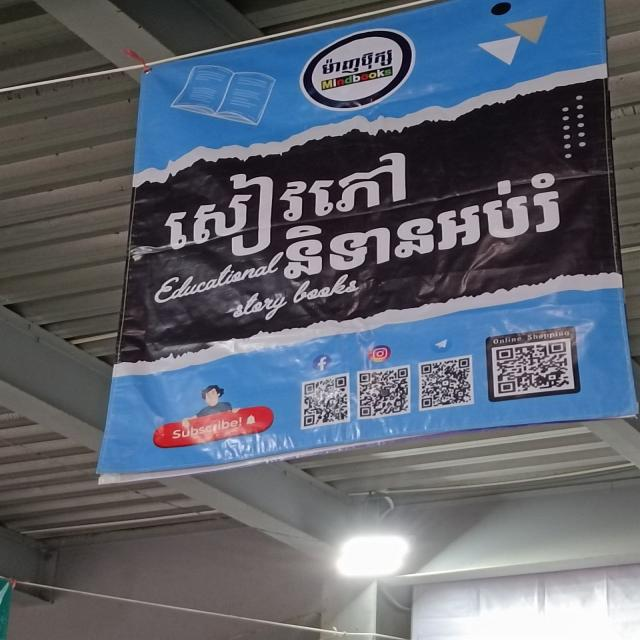Yolov11kh: (275, 164, 579, 282), (152, 140, 407, 274), (319, 46, 395, 81)
